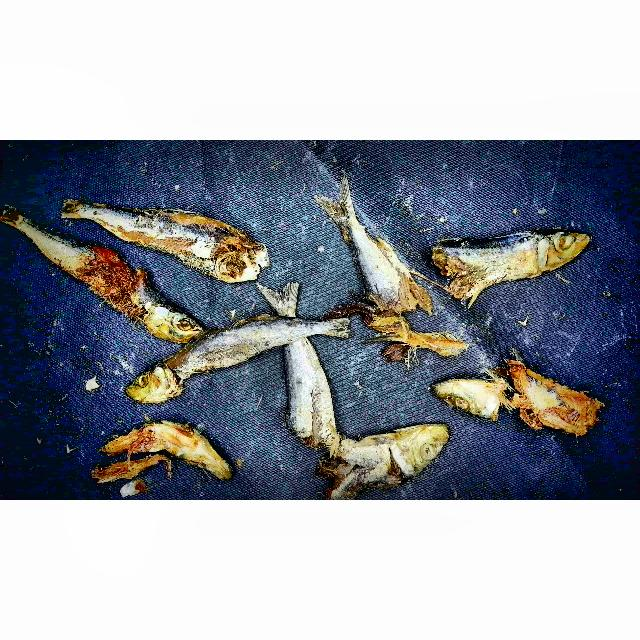Rejected_Body: (110, 195, 270, 284), (30, 223, 153, 328), (189, 312, 315, 379), (340, 230, 436, 317), (271, 342, 348, 449)
Rejected_Head: (429, 223, 596, 302), (430, 371, 604, 438), (88, 416, 233, 491), (326, 420, 455, 497), (111, 354, 201, 408), (129, 295, 211, 346)
Rejected_Tail: (306, 172, 368, 236), (255, 274, 305, 321), (308, 308, 358, 346), (60, 191, 98, 225)
